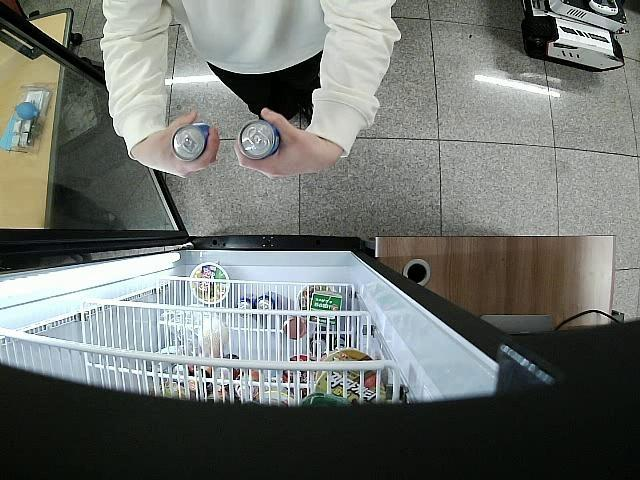15_letsbe: (234, 119, 282, 160), (172, 121, 212, 162)
